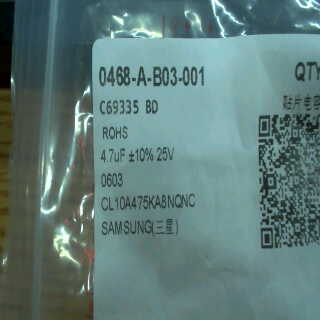4.7uF: (96, 143, 129, 169)
